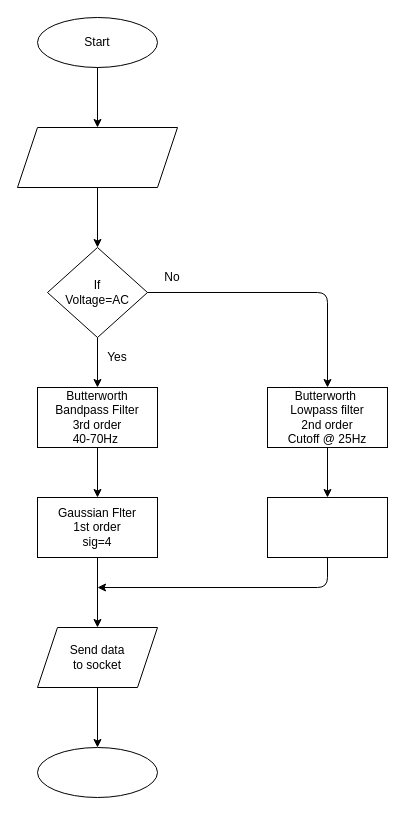
Some shapes in this 405 by 815 pixel diagram are drawn without their labels. Each missing label, with the centre of its shape:
End: pixel 97 772
Gaussian filter 1st order sig=7: pixel 327 527
Taking input from ADC and mode from GUI: pixel 97 157
